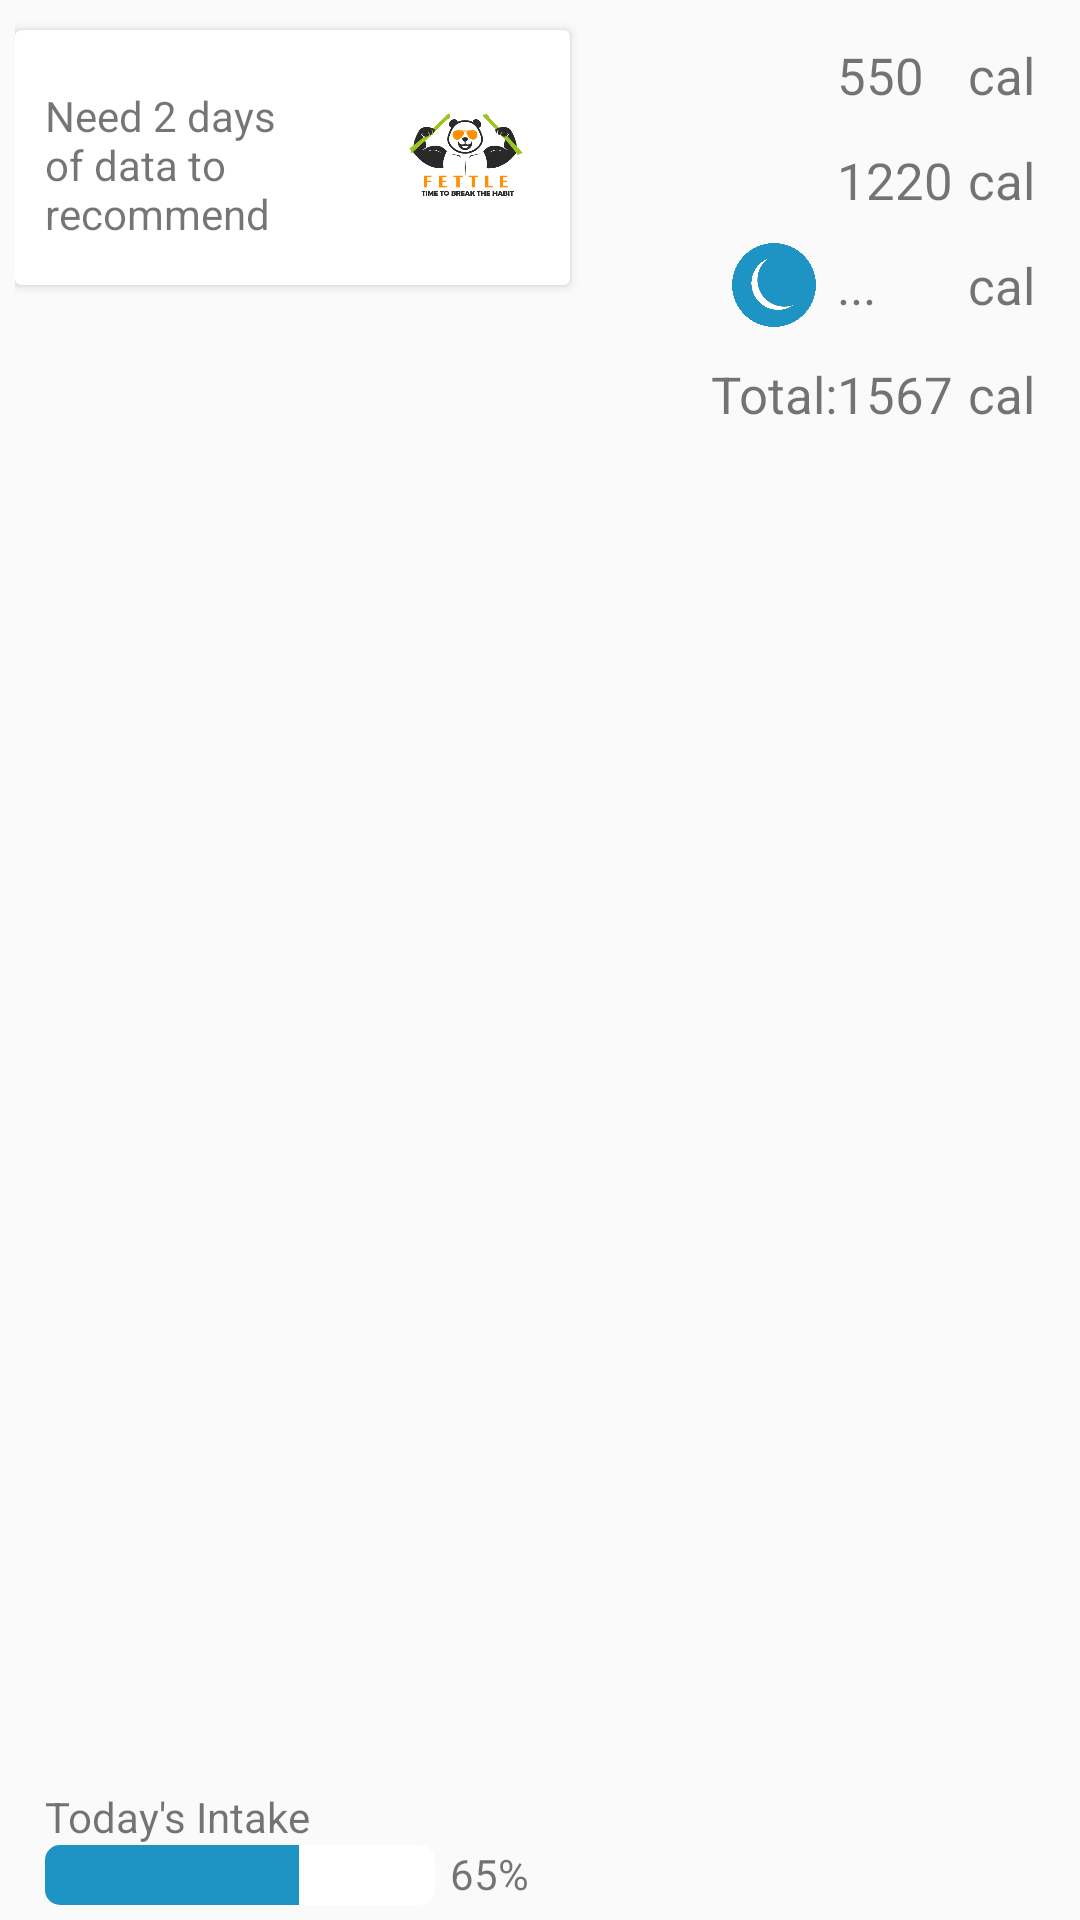

Icon bounding boxes for this 1080w x 1920h phone screenshot, format (x1, y1, x2, y2):
dinner: (732, 243, 816, 327)
